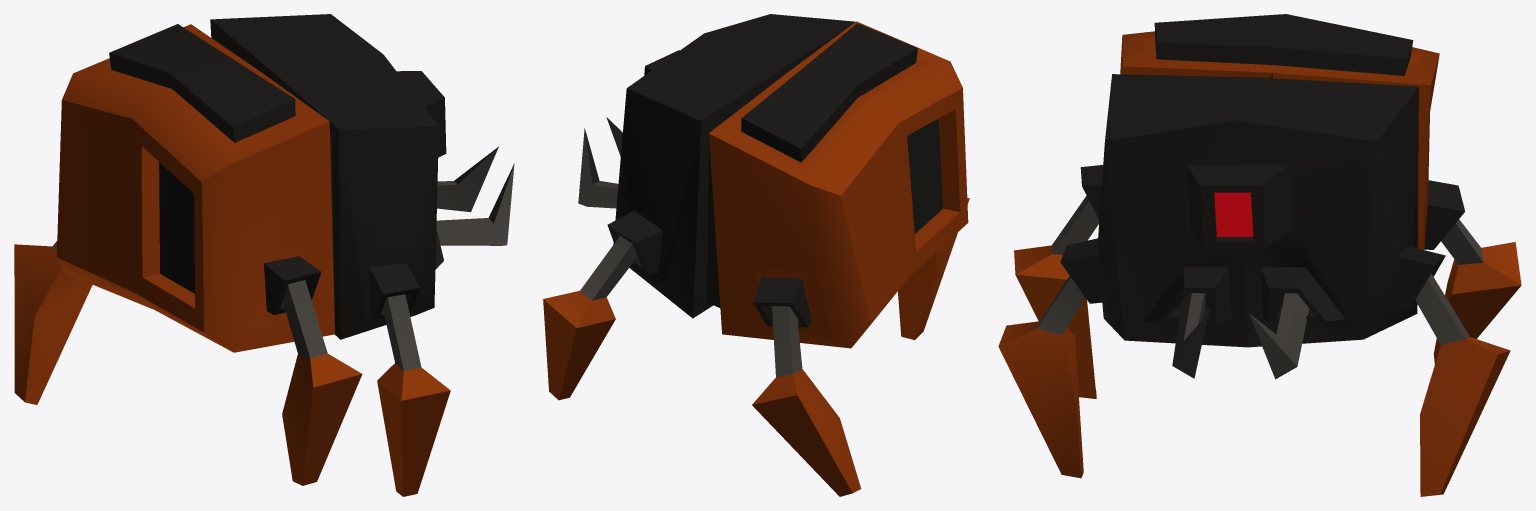
File: SPIDBOT8.obj
3 views of the same model, side by side, from view 1: azimuth 30°, elevation 25°; view 2: azimuth 150°, elevation 25°; view 3: azimuth 270°, elevation 25° (orthographic). The views are drawn at different scales.
Parts seen in each view (by area): view 1: Cube.001; view 2: Cube.001; view 3: Cube.001.
Boxes of the visible parts, x1=… form: Cube.001: x1=14, y1=14, x2=514, y2=496; Cube.001: x1=543, y1=14, x2=969, y2=496; Cube.001: x1=998, y1=14, x2=1521, y2=496.
Size of what is drawn, in the model's own units: 3.05 by 2.89 by 3.45.
